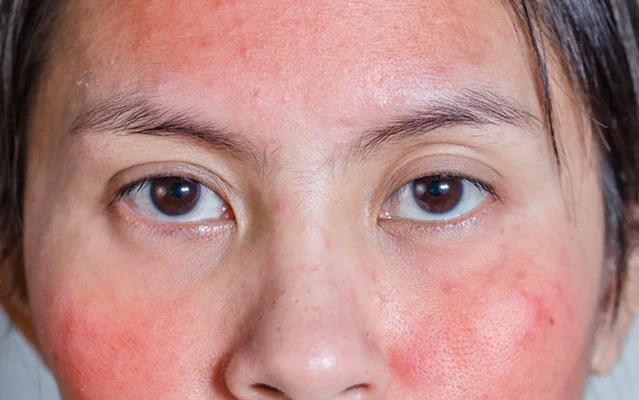Skin-Redness: (378, 271, 553, 394), (51, 308, 186, 400)
